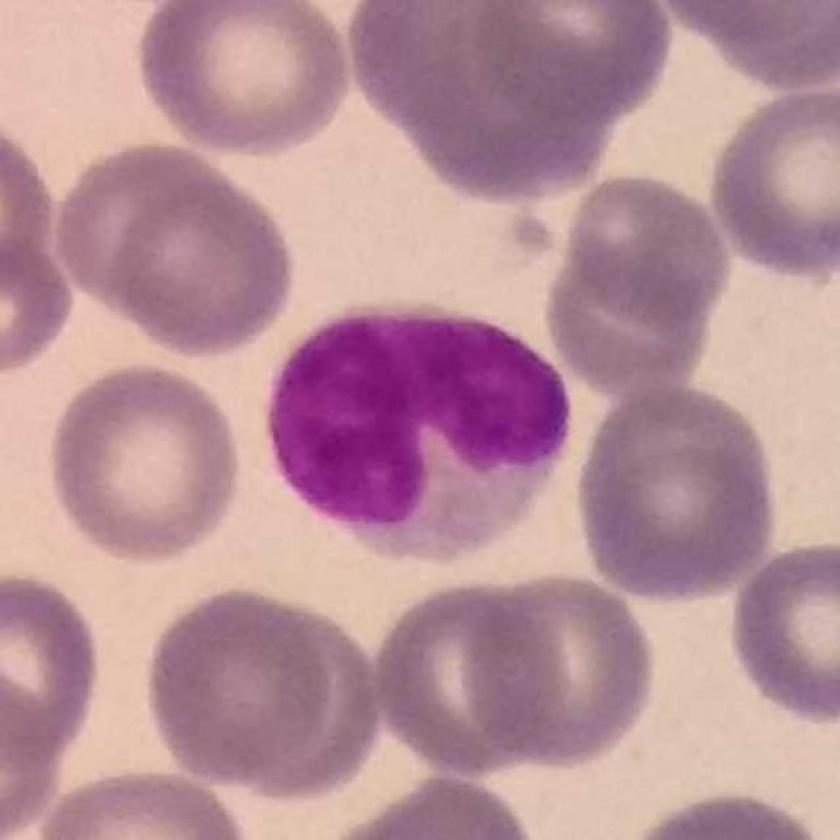monocyte: (270, 291, 579, 573)
